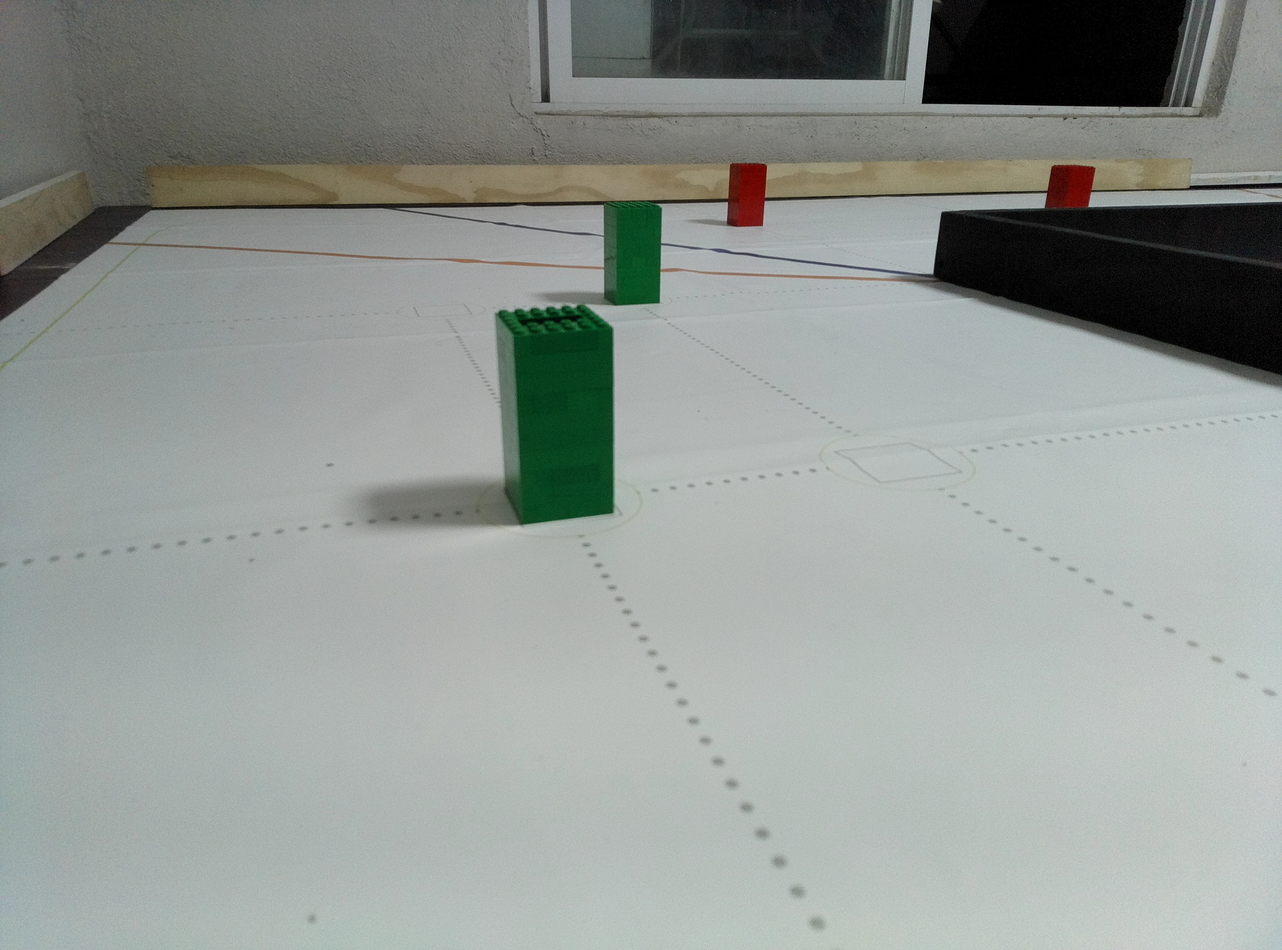greenbox: (493, 307, 616, 526), (603, 201, 663, 305)
redbox: (726, 162, 767, 227), (1044, 165, 1096, 208)
